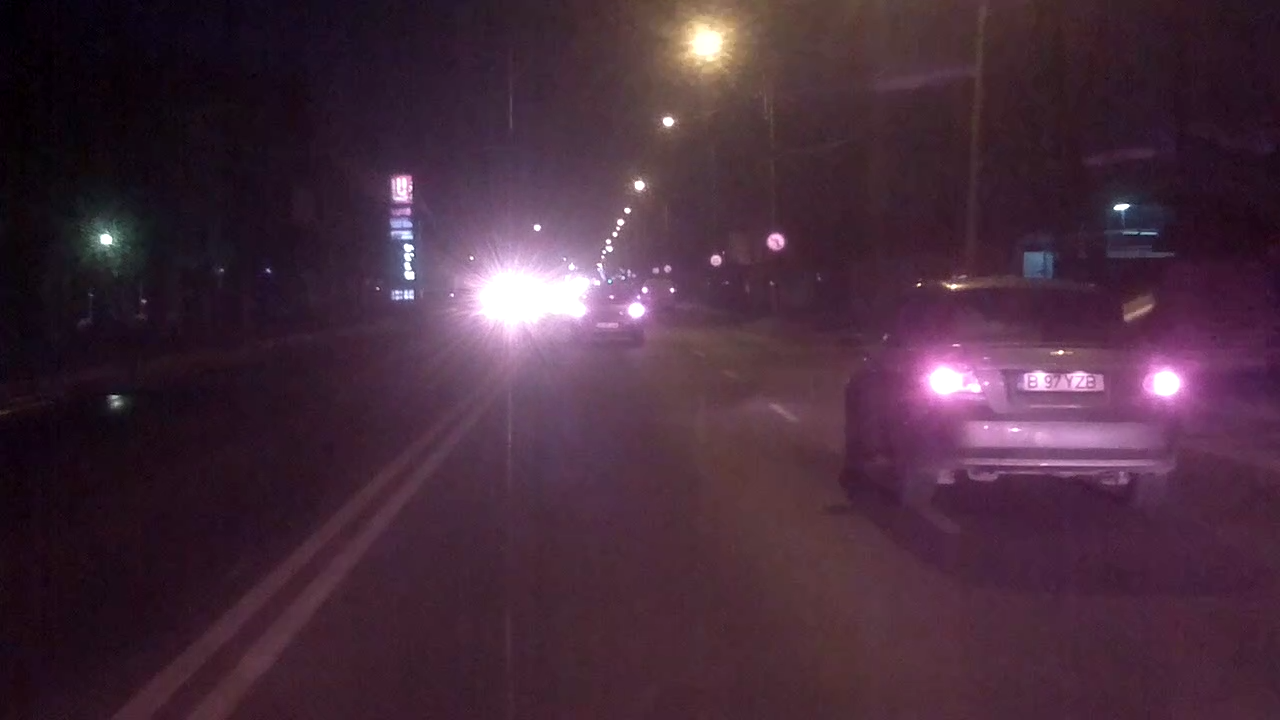license-plate: (1011, 368, 1109, 396)
